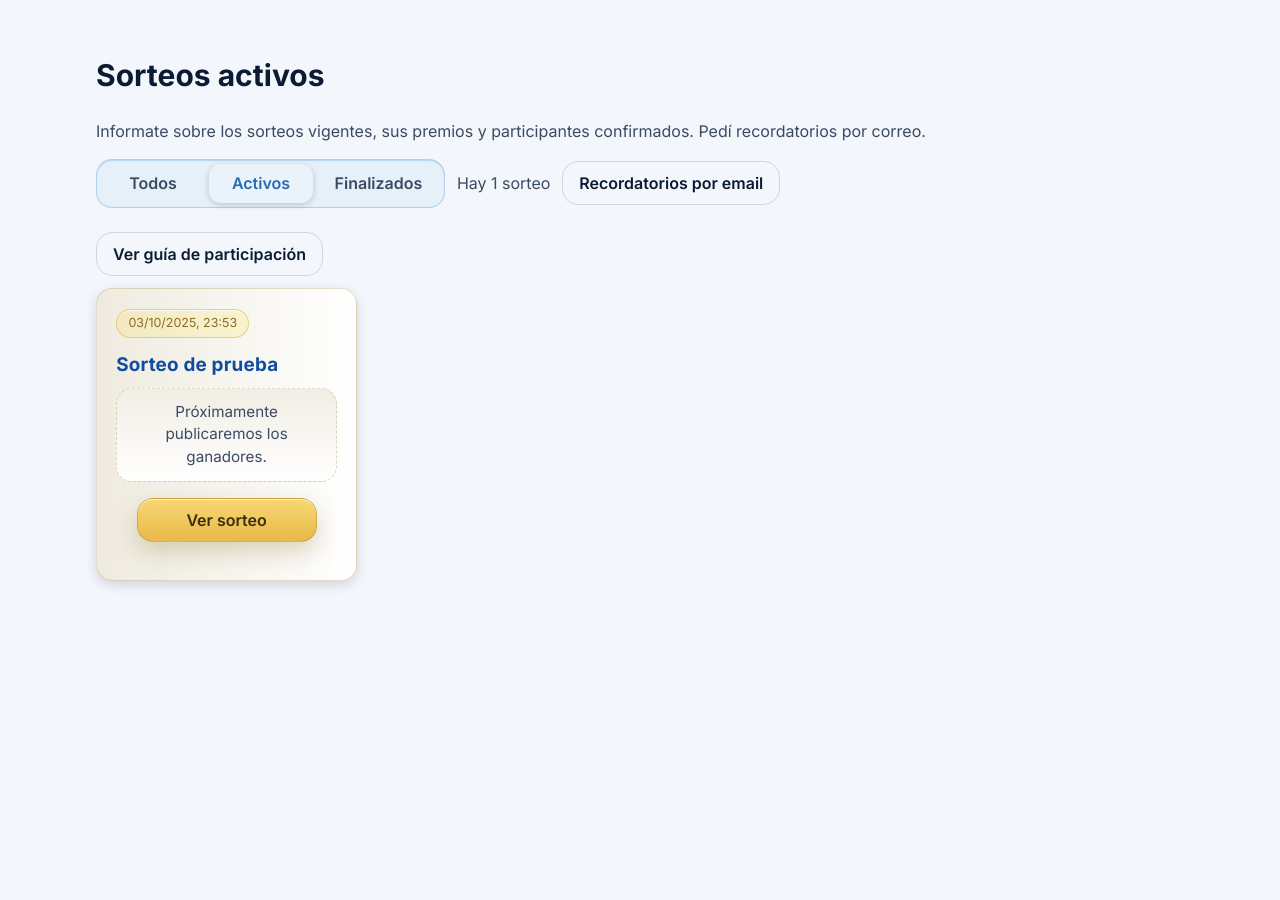
Test: colapsa la guía al ocultarla y restablece aria-hidden
The width and height of the screenshot is (1280, 900).
Step 1. Click the button "Ver guía de participación" → click(209, 254), box 96,232 -> 323,276
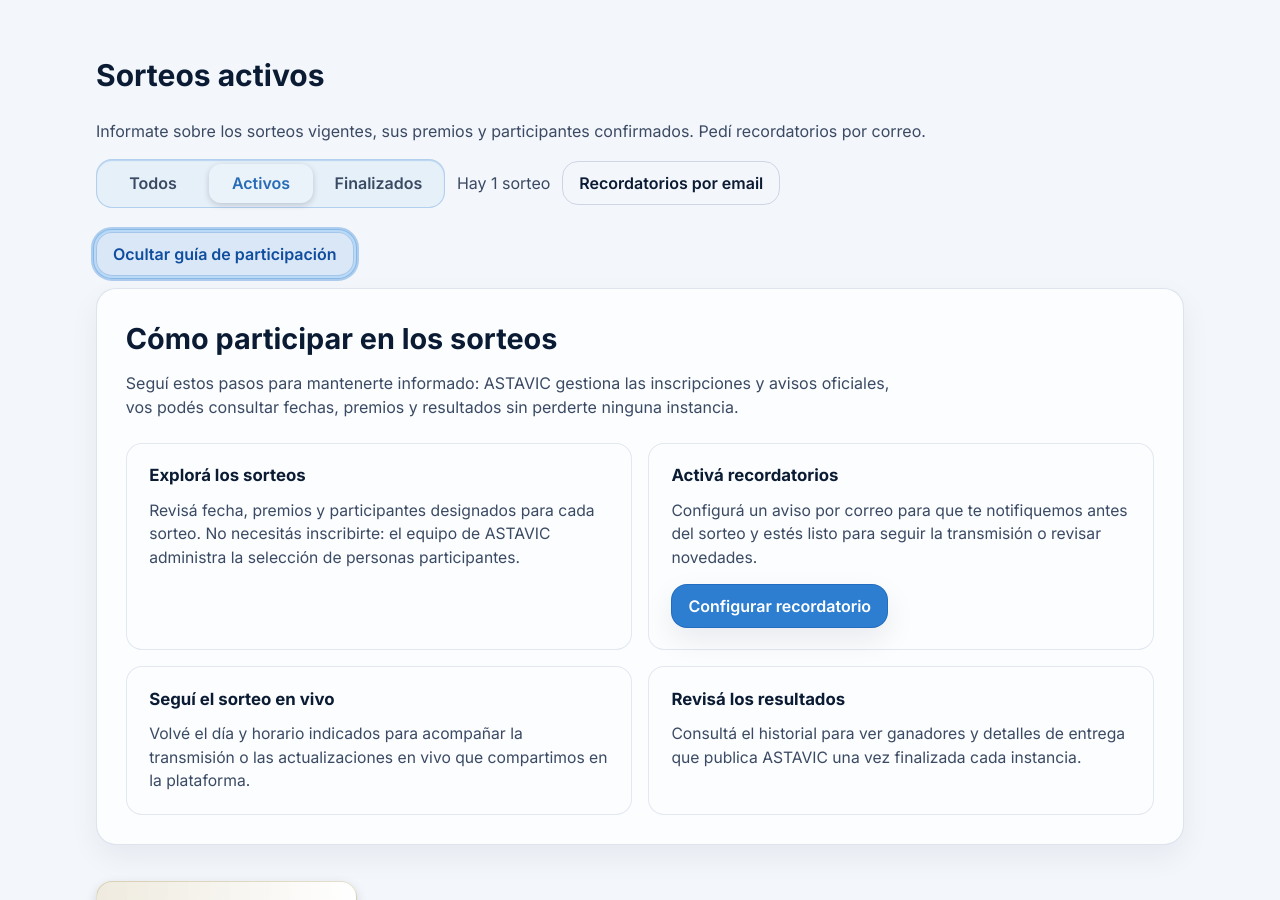
Expected: the button named "ver guía de participación" is expanded
Expected: the element with test id "participation-guide" is shown, 96,288 -> 1184,845
Step 2. Click the button "Ocultar guía de participación" → click(225, 254), box 96,232 -> 354,276
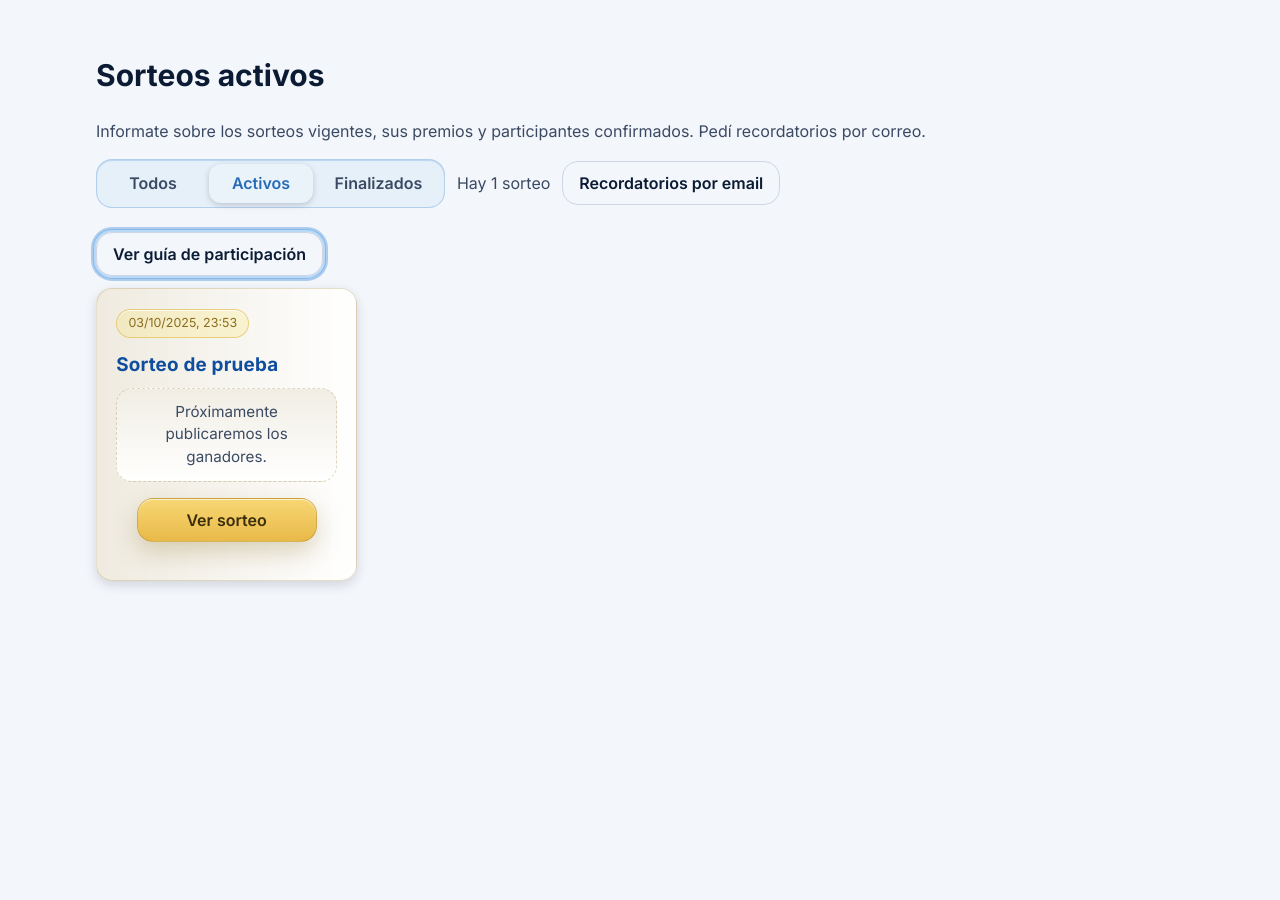
Expected: the button named "ocultar guía de participación" is collapsed, 96,232 -> 323,276
